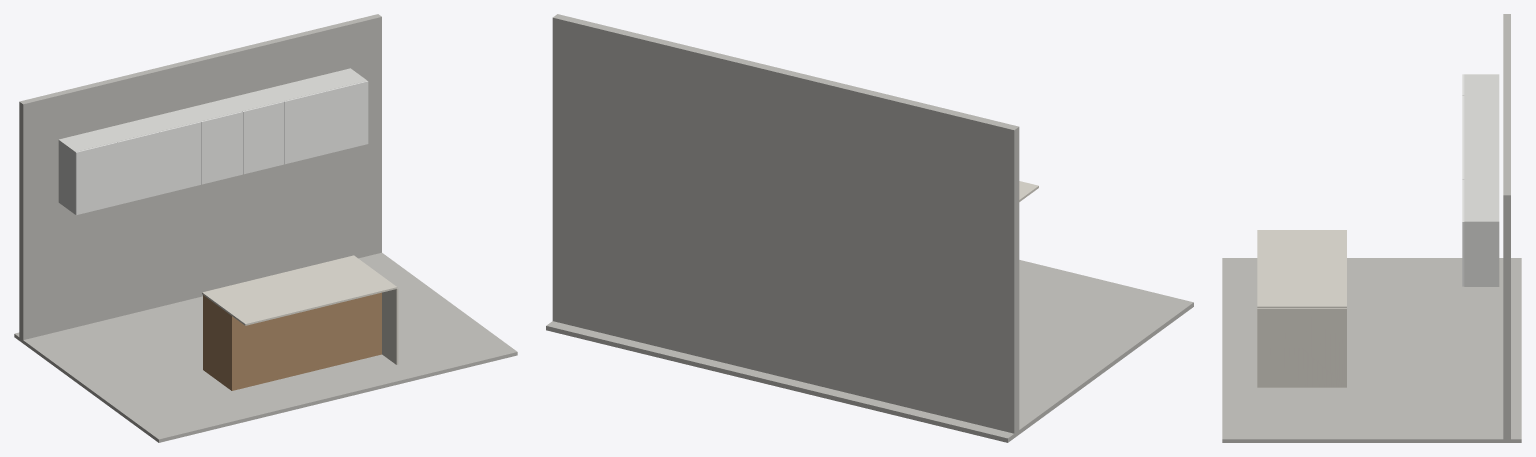
Rendered from upper_cabinets_island+.glb.
The picture shows the model from 3 angles, left to right: view 1: azimuth 30°, elevation 25°; view 2: azimuth 150°, elevation 25°; view 3: azimuth 270°, elevation 25°; orthographic projection. The views are drawn at different scales.
Parts seen in each view (by area): view 1: Wall_Back, Floor, Island_Cabinet, Island_Benchtop, UC_03_Door, UC_06_Door, UC_01_Door, UC_07_Door, UC_02_Door, UC_05_Door, UC_04_Door, Island_Waterfall_Right (+8 smaller); view 2: Wall_Back, Floor; view 3: Floor, Island_Waterfall_Right, Island_Benchtop, Wall_Back, UC_07_RightPanel, UC_01_TopPanel, UC_02_TopPanel, UC_03_TopPanel, UC_04_TopPanel, UC_05_TopPanel, UC_06_TopPanel, UC_07_TopPanel.
Boxes of the visible parts, x1,y1,x2,y2 form: Wall_Back: [19, 14, 381, 339]; Floor: [14, 252, 517, 442]; Island_Cabinet: [203, 292, 381, 390]; Island_Benchtop: [202, 255, 397, 325]; UC_03_Door: [159, 121, 201, 194]; UC_06_Door: [284, 91, 326, 164]; UC_01_Door: [75, 142, 117, 214]; UC_07_Door: [326, 81, 368, 153]; UC_02_Door: [117, 131, 159, 204]; UC_05_Door: [242, 101, 284, 174]; UC_04_Door: [201, 111, 242, 184]; Island_Waterfall_Right: [382, 288, 398, 364]; Wall_Back: [552, 14, 1019, 433]; Floor: [546, 260, 1193, 442]; Floor: [1222, 258, 1521, 442]; Island_Waterfall_Right: [1257, 308, 1346, 387]; Island_Benchtop: [1257, 230, 1346, 308]; Wall_Back: [1503, 14, 1510, 439]; UC_07_RightPanel: [1464, 221, 1499, 286]; UC_01_TopPanel: [1464, 75, 1499, 94]; UC_02_TopPanel: [1464, 96, 1499, 115]; UC_03_TopPanel: [1464, 117, 1499, 136]; UC_04_TopPanel: [1464, 138, 1499, 157]; UC_05_TopPanel: [1464, 159, 1499, 178]; UC_06_TopPanel: [1464, 180, 1499, 199]; UC_07_TopPanel: [1464, 201, 1499, 220].
Bounding box in the file's own units: 4.3 × 2.74 × 3.
